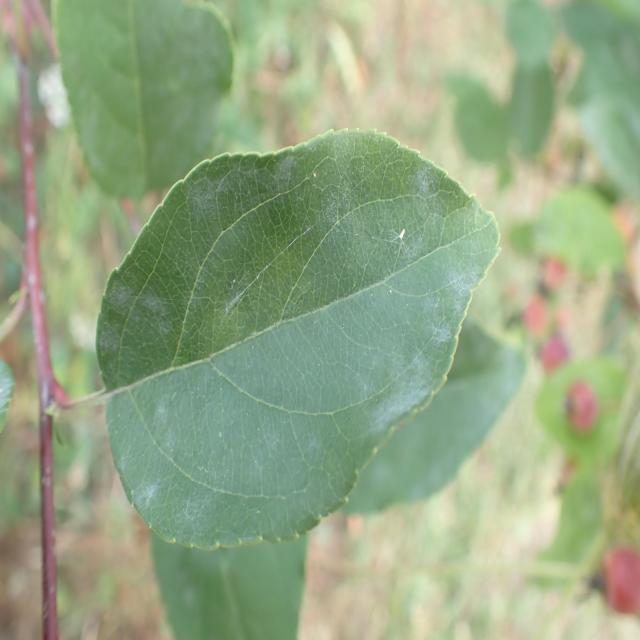Powdery_mildew: (89, 133, 489, 536)
